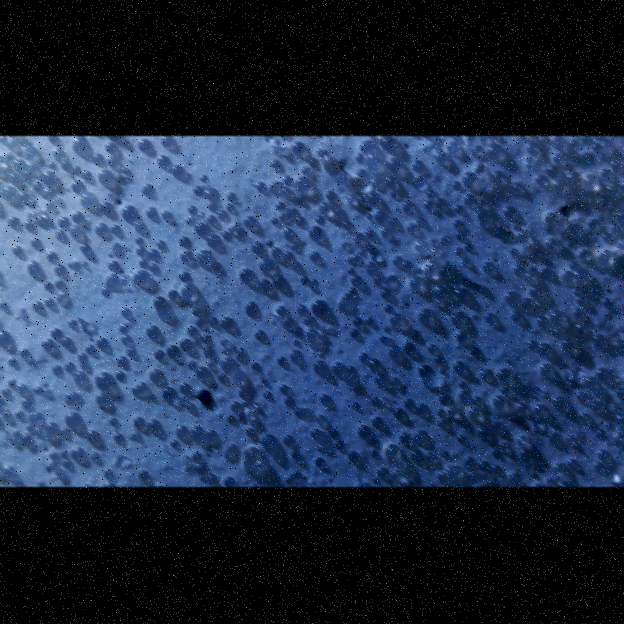GrassBeadSeg: (54, 142, 600, 458), (66, 149, 599, 467), (44, 171, 553, 475), (30, 174, 598, 422), (49, 173, 546, 444), (13, 182, 557, 385), (83, 177, 596, 389), (177, 155, 561, 438), (162, 135, 542, 414), (33, 301, 607, 476), (200, 174, 547, 461), (77, 273, 601, 461), (66, 210, 515, 427), (34, 153, 363, 446), (8, 274, 519, 461), (316, 135, 608, 460), (34, 183, 604, 348), (220, 235, 604, 474), (128, 205, 565, 407), (149, 145, 501, 381), (60, 160, 349, 441), (245, 175, 553, 437), (102, 144, 497, 347), (172, 172, 465, 443), (8, 167, 367, 385), (45, 159, 329, 434), (72, 211, 379, 465), (134, 221, 501, 431), (10, 223, 493, 381), (284, 165, 594, 407), (155, 156, 475, 389), (96, 257, 586, 404), (283, 218, 597, 445), (114, 277, 544, 442), (79, 232, 611, 361), (43, 202, 474, 349), (192, 227, 462, 460), (330, 165, 559, 437), (154, 204, 443, 418), (96, 228, 459, 398), (22, 207, 329, 407), (134, 269, 562, 407), (110, 148, 377, 369), (135, 236, 506, 393), (138, 247, 458, 427), (296, 217, 531, 459), (114, 270, 505, 408), (121, 335, 574, 450), (71, 300, 581, 402), (365, 228, 609, 438), (96, 204, 373, 388), (143, 183, 515, 320), (85, 173, 360, 354), (96, 222, 550, 324), (195, 255, 401, 473), (154, 175, 397, 359), (361, 140, 573, 349), (297, 264, 523, 460), (45, 175, 383, 306), (75, 148, 323, 326), (314, 194, 476, 466), (201, 199, 411, 408), (360, 145, 551, 374), (282, 145, 480, 364), (377, 181, 521, 477), (226, 325, 540, 455), (100, 169, 495, 272), (317, 215, 524, 411), (157, 244, 536, 350), (139, 139, 390, 299), (71, 155, 573, 235), (146, 147, 277, 450), (47, 170, 479, 261), (329, 274, 567, 439), (186, 253, 443, 402), (188, 205, 436, 352), (357, 206, 514, 436), (174, 162, 439, 298), (364, 151, 509, 393), (62, 336, 587, 402), (193, 241, 344, 462), (168, 289, 468, 400), (258, 245, 550, 357), (89, 278, 308, 427), (310, 170, 503, 339), (65, 167, 610, 226), (304, 163, 485, 339), (309, 319, 532, 461), (58, 365, 466, 442), (286, 205, 603, 304), (373, 299, 543, 481), (242, 219, 461, 360), (98, 173, 360, 285), (53, 201, 217, 373), (380, 139, 611, 261), (259, 258, 491, 379), (109, 268, 436, 352), (310, 194, 608, 286), (194, 185, 337, 375), (386, 157, 488, 419), (50, 393, 459, 458), (279, 247, 462, 392), (153, 216, 467, 300), (356, 310, 564, 436), (302, 212, 555, 315), (266, 269, 404, 457), (35, 181, 270, 290), (230, 278, 422, 410), (78, 293, 440, 363), (370, 316, 546, 457), (139, 235, 240, 479), (105, 142, 188, 436), (201, 141, 460, 234), (284, 297, 532, 393), (394, 198, 496, 431), (221, 291, 518, 370), (68, 260, 389, 331), (9, 216, 213, 325), (346, 247, 515, 375), (207, 316, 463, 400), (13, 182, 310, 254), (80, 228, 576, 271), (256, 181, 368, 363), (294, 176, 358, 463), (239, 159, 387, 282), (295, 141, 429, 275), (345, 241, 611, 307), (51, 334, 387, 386), (413, 175, 574, 283), (18, 153, 103, 357), (313, 200, 413, 373), (352, 153, 452, 325), (354, 175, 609, 242), (254, 335, 411, 443), (196, 159, 273, 379), (180, 231, 321, 351), (36, 377, 399, 423), (153, 295, 320, 393), (117, 310, 388, 370), (434, 284, 525, 460), (28, 216, 305, 273), (51, 328, 268, 399), (196, 304, 305, 441), (27, 161, 159, 272), (65, 305, 286, 371), (368, 192, 588, 258), (163, 386, 426, 441), (415, 179, 613, 252), (211, 313, 553, 355), (316, 348, 473, 439), (412, 160, 496, 324), (19, 249, 141, 357), (254, 329, 505, 381), (121, 199, 229, 318), (203, 210, 356, 294), (291, 155, 333, 458), (252, 241, 344, 376), (236, 275, 382, 360), (96, 268, 253, 347), (116, 335, 387, 380), (535, 144, 582, 400), (309, 250, 542, 298), (271, 217, 374, 325), (308, 172, 476, 238), (222, 215, 298, 360), (121, 155, 169, 380), (548, 188, 589, 444), (315, 253, 509, 304), (471, 396, 601, 471), (55, 215, 213, 276), (8, 173, 192, 225), (86, 390, 272, 441), (245, 339, 321, 461), (472, 347, 615, 411), (131, 431, 434, 461), (83, 243, 307, 283), (397, 315, 481, 418), (45, 282, 377, 308), (13, 327, 74, 468), (172, 153, 559, 175), (65, 348, 172, 427), (193, 338, 301, 416), (49, 162, 204, 216), (23, 382, 110, 478), (15, 287, 136, 356), (146, 324, 241, 411), (399, 308, 459, 442), (7, 139, 69, 267), (416, 159, 464, 324), (137, 202, 281, 257), (499, 327, 562, 451), (463, 422, 613, 473), (313, 163, 373, 288), (284, 261, 397, 327), (186, 299, 327, 351), (133, 400, 413, 426), (269, 135, 394, 193), (528, 323, 586, 444), (220, 316, 413, 352), (83, 170, 159, 258), (118, 324, 193, 412), (188, 303, 393, 335), (372, 369, 485, 426), (190, 393, 330, 439), (122, 190, 336, 220), (388, 274, 422, 457), (69, 352, 365, 373), (455, 160, 532, 239), (194, 314, 303, 368), (522, 308, 577, 413), (392, 155, 532, 196), (513, 172, 579, 258), (195, 193, 329, 234), (180, 283, 235, 378), (179, 188, 265, 245), (414, 239, 530, 281), (415, 216, 538, 255), (212, 269, 350, 303), (151, 399, 206, 483), (158, 288, 384, 308), (438, 424, 516, 481), (236, 226, 258, 425), (391, 184, 419, 338), (372, 244, 442, 305), (185, 181, 281, 223), (59, 203, 233, 226), (72, 136, 128, 206), (379, 337, 429, 415), (516, 401, 600, 447), (188, 211, 219, 335), (64, 228, 119, 296), (251, 345, 399, 370), (64, 419, 161, 456), (36, 178, 128, 216), (527, 141, 552, 279), (71, 447, 379, 458), (437, 418, 604, 438), (389, 145, 429, 228), (504, 435, 596, 469), (431, 222, 520, 256), (292, 143, 447, 162), (4, 148, 64, 197), (359, 213, 410, 270), (2, 388, 64, 434), (349, 328, 377, 427), (15, 382, 68, 434), (426, 189, 471, 250), (67, 165, 82, 346), (206, 187, 277, 225), (122, 139, 190, 178), (481, 207, 535, 255), (221, 235, 365, 253), (456, 335, 512, 380), (389, 312, 469, 342), (319, 444, 379, 484), (226, 414, 320, 438), (167, 344, 301, 360), (13, 159, 76, 192), (553, 412, 587, 473), (456, 165, 537, 190), (421, 200, 432, 378), (308, 157, 350, 202), (418, 264, 435, 375), (207, 419, 234, 488), (152, 324, 210, 356), (458, 171, 470, 324), (3, 278, 60, 310), (14, 166, 55, 210), (106, 258, 153, 296), (233, 230, 299, 256), (179, 377, 227, 411), (303, 166, 313, 324), (408, 346, 465, 373), (29, 180, 83, 207), (0, 291, 66, 312), (352, 263, 448, 277), (212, 428, 235, 486), (569, 139, 613, 169), (277, 201, 285, 364), (130, 385, 158, 431), (7, 185, 50, 214), (48, 287, 77, 328), (456, 199, 485, 240), (510, 285, 542, 321), (474, 395, 489, 471), (351, 275, 359, 409), (56, 224, 118, 241), (363, 196, 397, 227), (182, 429, 211, 464), (3, 429, 24, 477), (187, 307, 203, 368), (288, 197, 301, 271), (431, 181, 461, 213), (45, 201, 113, 215), (283, 167, 312, 198), (3, 411, 40, 434), (143, 192, 236, 201), (577, 308, 599, 346), (195, 341, 228, 366), (187, 360, 226, 381), (60, 449, 99, 467), (157, 240, 190, 261), (90, 450, 112, 480), (539, 145, 572, 165), (343, 195, 363, 228), (347, 266, 420, 275), (590, 401, 606, 441), (24, 199, 37, 247), (195, 249, 221, 273), (81, 191, 106, 215), (524, 271, 539, 310), (440, 450, 474, 466), (342, 192, 357, 227), (606, 160, 620, 194), (584, 367, 608, 386), (282, 186, 305, 205), (604, 403, 619, 430), (31, 236, 60, 249), (21, 427, 42, 444), (26, 146, 38, 175), (270, 246, 293, 261), (138, 381, 155, 400), (221, 225, 235, 240), (352, 254, 357, 295), (44, 279, 63, 289), (356, 256, 369, 270), (318, 202, 332, 214), (305, 327, 317, 339), (367, 244, 372, 272), (109, 260, 119, 271), (186, 402, 196, 409), (369, 260, 375, 271), (533, 158, 539, 164)
